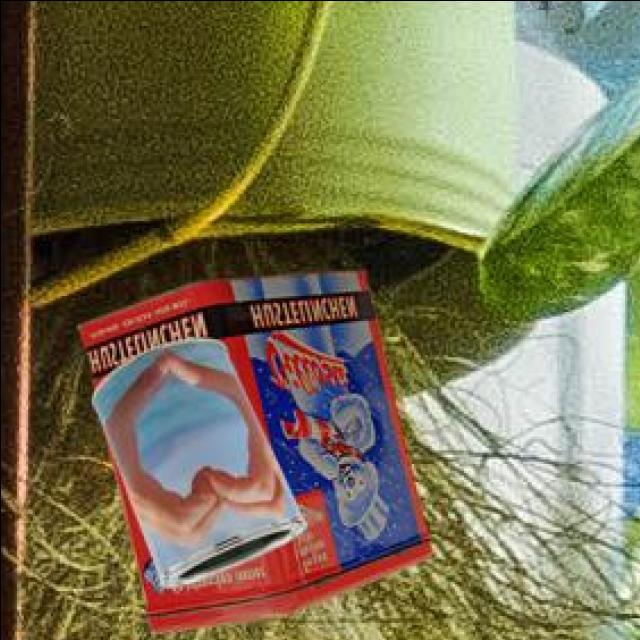logam: (74, 271, 428, 637), (87, 342, 303, 591)
